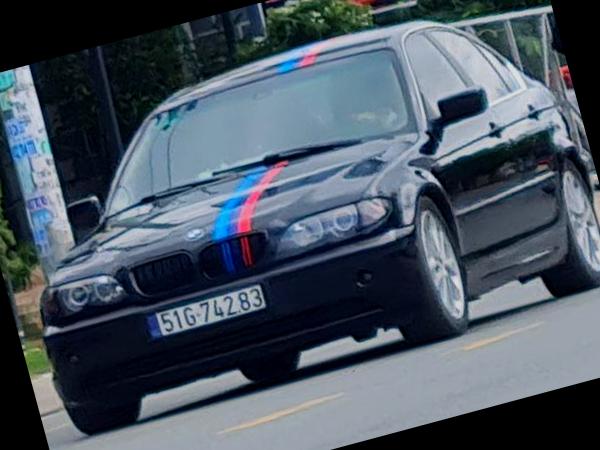lisence: (145, 286, 270, 340)
